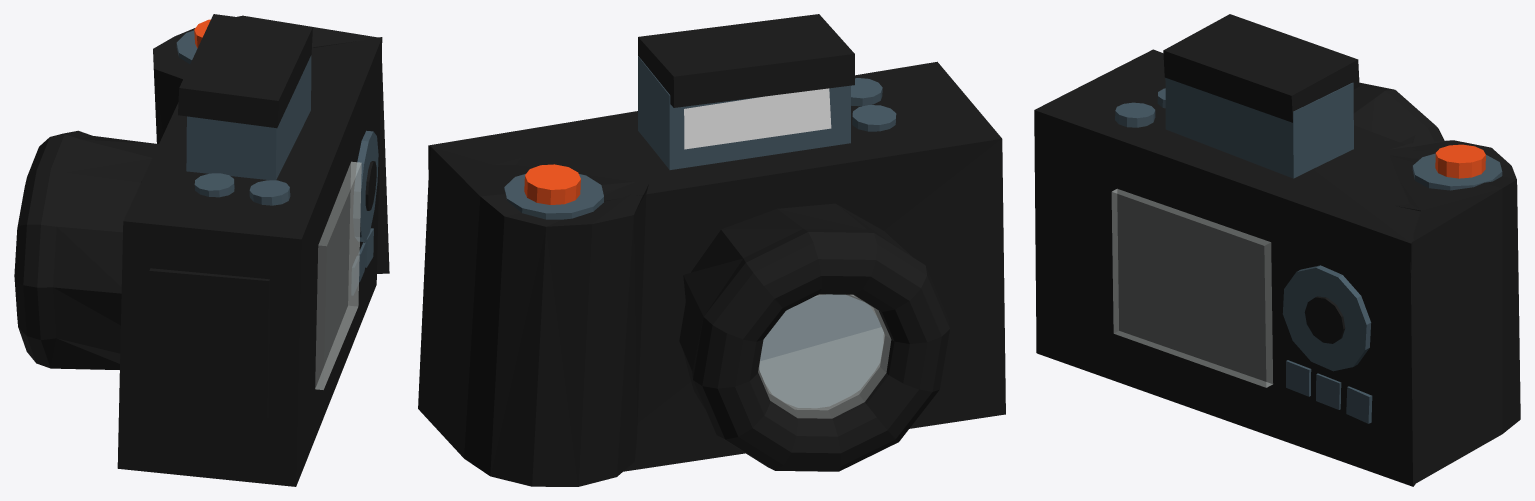
File: Camera.glb
3 views of the same model, side by side, from view 1: azimuth 30°, elevation 25°; view 2: azimuth 150°, elevation 25°; view 3: azimuth 270°, elevation 25° (orthographic). The views are drawn at different scales.
Visible parts, largest first — view 1: group187960395, group421370910, group563972974, group1841487932, group1442659403, group1660282777, group1050759265, group326494754, group1049064424, group1103111000, group417813621, group1230812601; view 2: group187960395, group1050759265, group421370910, group1841487932, group1660282777, group1770708456, group2084903847, group417813621, group1481700145, group1103111000, group1049064424; view 3: group187960395, group1050759265, group1442659403, group1841487932, group1660282777, group326494754, group421370910, group417813621, group1481700145, group1230812601, group1049064424, group869650960 (+2 smaller).
Boxes of the visible parts, left/top/right/bottom form: group187960395: left=117, top=37, right=382, bottom=486; group421370910: left=14, top=130, right=158, bottom=369; group563972974: left=147, top=268, right=269, bottom=419; group1841487932: left=178, top=14, right=312, bottom=128; group1442659403: left=315, top=161, right=361, bottom=389; group1660282777: left=186, top=55, right=311, bottom=180; group1050759265: left=153, top=15, right=389, bottom=273; group326494754: left=353, top=130, right=378, bottom=241; group1049064424: left=249, top=180, right=290, bottom=205; group1103111000: left=194, top=173, right=234, bottom=197; group417813621: left=176, top=30, right=197, bottom=63; group1230812601: left=365, top=161, right=376, bottom=210; group187960395: left=428, top=61, right=1005, bottom=471; group1050759265: left=418, top=147, right=648, bottom=486; group421370910: left=679, top=203, right=949, bottom=471; group1841487932: left=638, top=14, right=854, bottom=107; group1660282777: left=638, top=56, right=850, bottom=169; group1770708456: left=758, top=294, right=890, bottom=418; group2084903847: left=759, top=294, right=883, bottom=407; group417813621: left=504, top=174, right=603, bottom=219; group1481700145: left=524, top=164, right=580, bottom=204; group1103111000: left=852, top=105, right=896, bottom=131; group1049064424: left=851, top=78, right=882, bottom=106; group187960395: left=1034, top=49, right=1431, bottom=486; group1050759265: left=1390, top=140, right=1520, bottom=484; group1442659403: left=1111, top=189, right=1272, bottom=387; group1841487932: left=1163, top=14, right=1359, bottom=122; group1660282777: left=1165, top=78, right=1353, bottom=178; group326494754: left=1282, top=265, right=1371, bottom=371; group421370910: left=1353, top=82, right=1444, bottom=144; group417813621: left=1412, top=153, right=1502, bottom=190; group1481700145: left=1435, top=144, right=1485, bottom=178; group1230812601: left=1304, top=296, right=1345, bottom=343; group1049064424: left=1115, top=102, right=1155, bottom=127; group869650960: left=1346, top=386, right=1372, bottom=423.
Bounding box in the file's own units: 0.4823 × 0.3796 × 0.4828.
